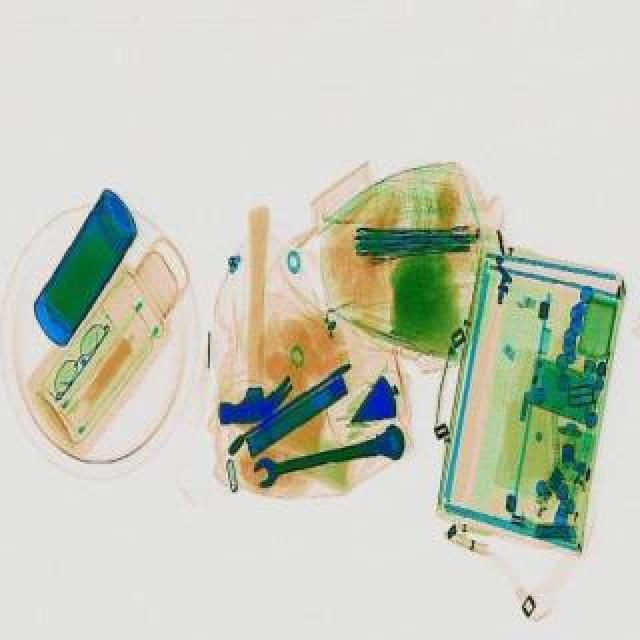scissors: (250, 420, 410, 490)
